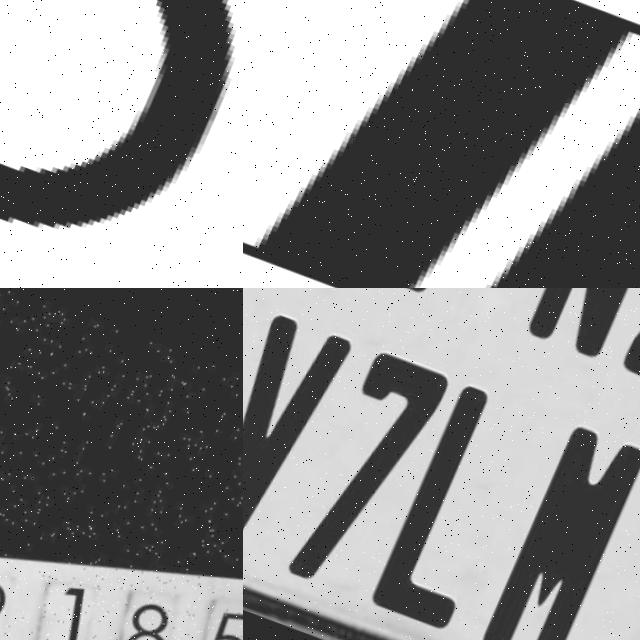1: (16, 560, 122, 640)
5: (0, 0, 243, 275), (181, 582, 243, 640)
7: (289, 344, 466, 598)
8: (101, 574, 204, 640)
9: (0, 552, 38, 640)
D: (243, 0, 640, 288)
L: (379, 376, 554, 629)
M: (486, 413, 640, 640)
V: (243, 308, 361, 563)
